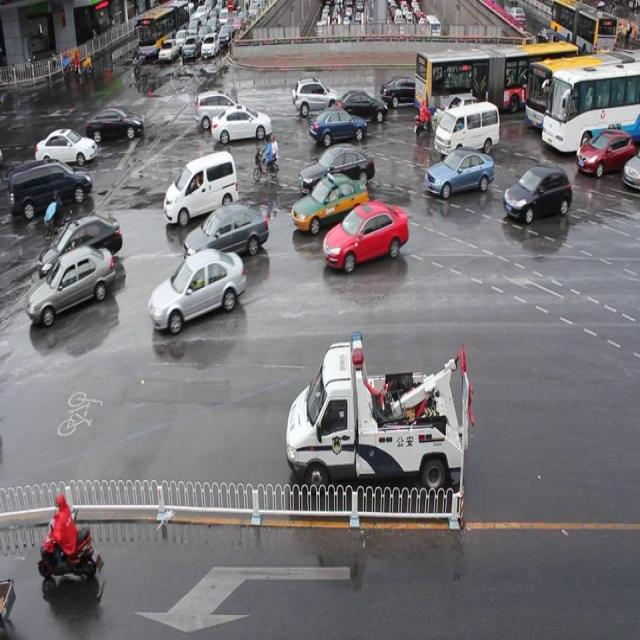bus: (285, 332, 473, 498)
car: (148, 250, 246, 332), (27, 246, 116, 322), (323, 199, 407, 272), (165, 153, 238, 225), (39, 216, 122, 277), (183, 206, 268, 261), (291, 172, 368, 232), (10, 161, 93, 216), (502, 165, 571, 220), (298, 144, 375, 190), (425, 148, 492, 198), (574, 131, 640, 176), (212, 105, 271, 143), (36, 128, 96, 165), (196, 88, 246, 131), (310, 107, 366, 145), (85, 106, 143, 142), (434, 96, 484, 134), (335, 88, 387, 122), (292, 78, 340, 114), (379, 77, 433, 106), (620, 150, 640, 190)
truck: (433, 102, 498, 154)
van: (414, 42, 576, 112), (542, 66, 640, 153), (525, 56, 640, 126)
